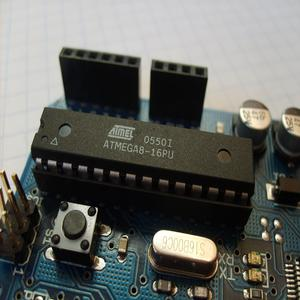duino: (0, 23, 300, 300)
